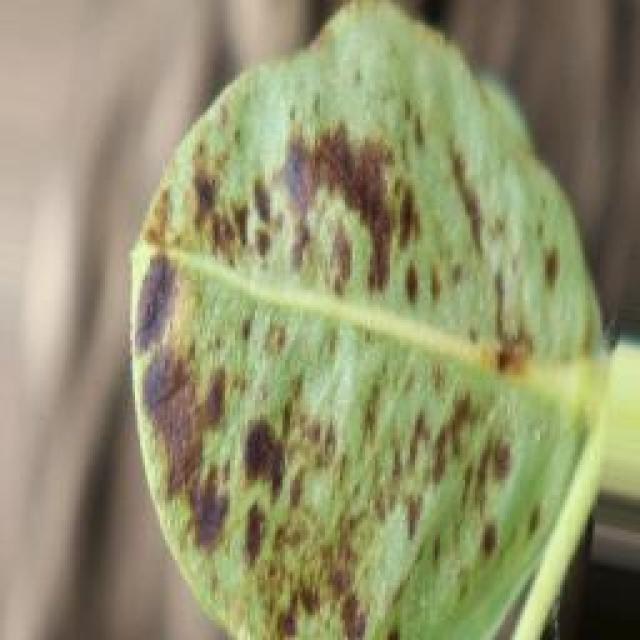Whitefly: (78, 73, 556, 639)
